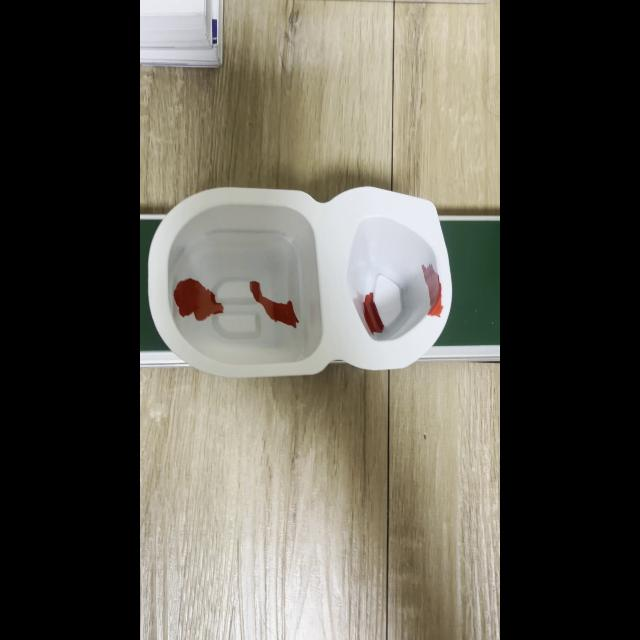dirty: (150, 186, 450, 374)
